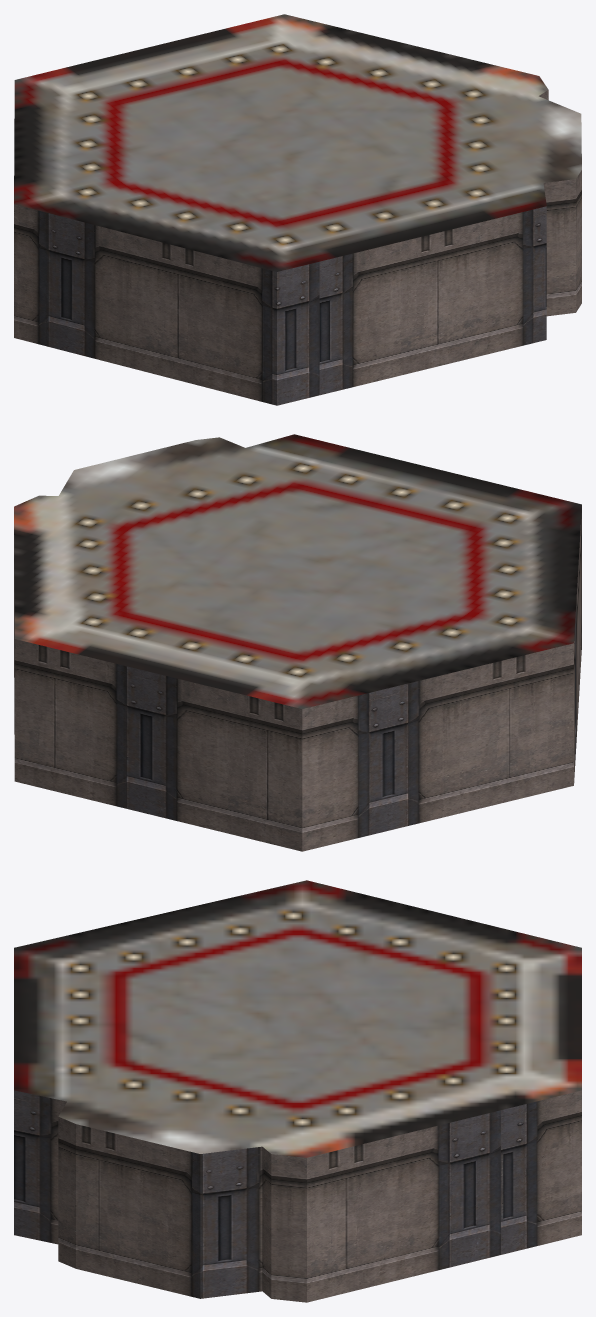
Rendered from bsealed_heavy_04.glb.
The picture shows the model from 3 angles, top to bottom: view 1: azimuth 30°, elevation 25°; view 2: azimuth 150°, elevation 25°; view 3: azimuth 270°, elevation 25°; orthographic projection. The views are drawn at different scales.
Visible parts, largest first — view 1: buildings/saxarba/bsealed_heavy/bsealed_heavy_04; view 2: buildings/saxarba/bsealed_heavy/bsealed_heavy_04; view 3: buildings/saxarba/bsealed_heavy/bsealed_heavy_04.
Boxes of the visible parts, bbox=[...] form: buildings/saxarba/bsealed_heavy/bsealed_heavy_04: bbox=[14, 14, 581, 405]; buildings/saxarba/bsealed_heavy/bsealed_heavy_04: bbox=[14, 434, 581, 851]; buildings/saxarba/bsealed_heavy/bsealed_heavy_04: bbox=[14, 880, 581, 1302].
Bounding box in the file's own units: 74 × 18 × 64.
